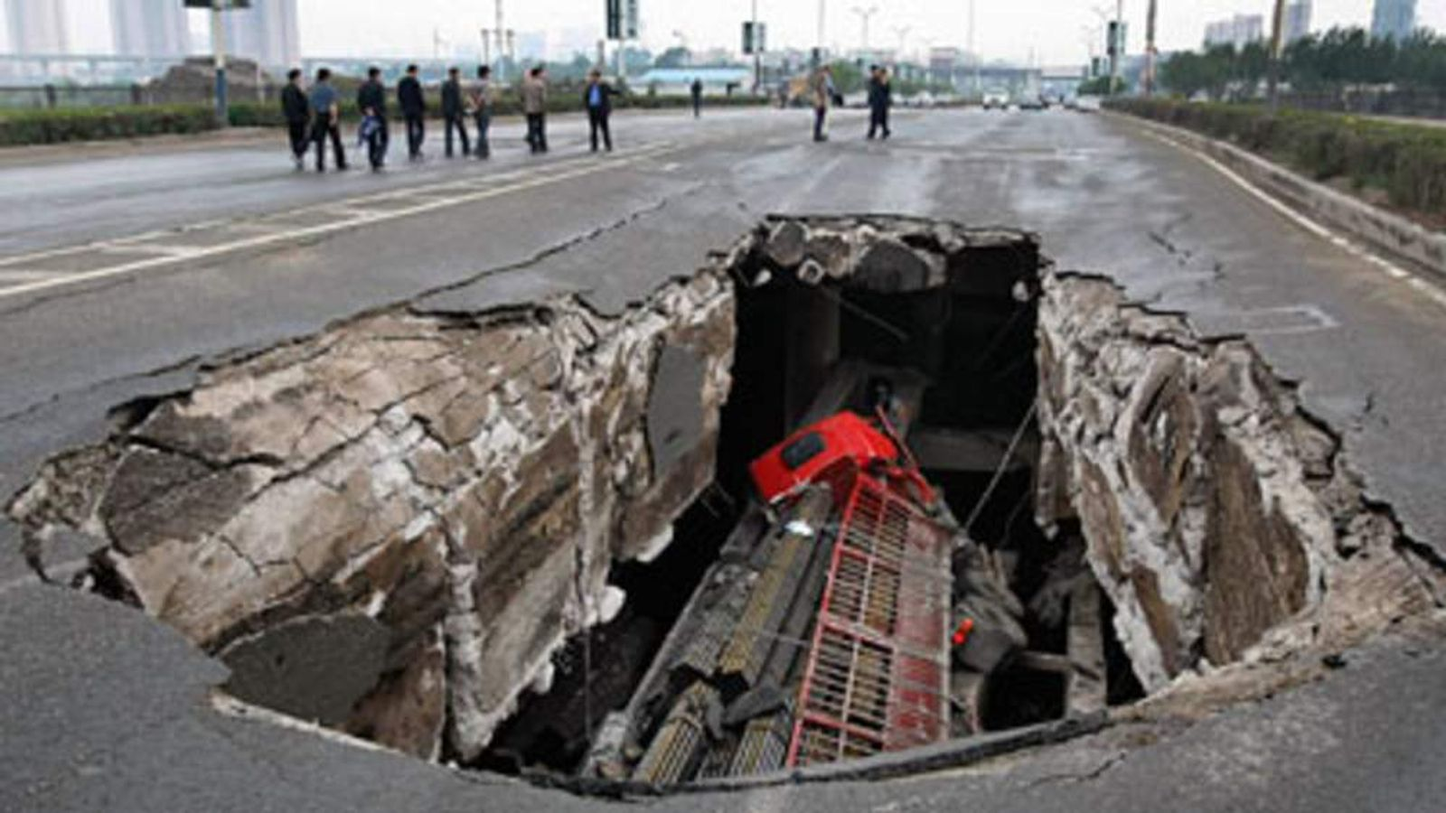Hole_in_the_road: (73, 196, 1429, 779)
Person: (261, 56, 320, 173), (503, 54, 564, 159), (341, 61, 390, 180), (853, 54, 900, 145), (582, 67, 627, 160)
